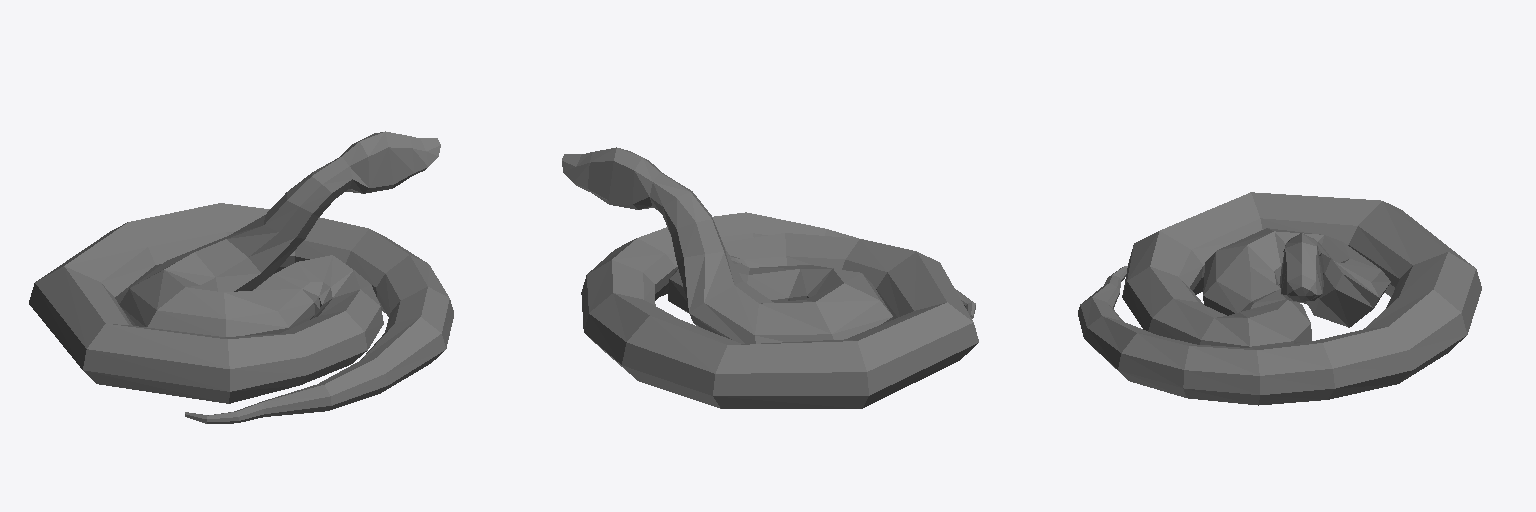
Rendered from sancatimor.obj.
The picture shows the model from 3 angles: view 1: azimuth 30°, elevation 25°; view 2: azimuth 150°, elevation 25°; view 3: azimuth 270°, elevation 25°; orthographic projection.
Parts seen in each view (by area): view 1: BushmasterSnake_mesh; view 2: BushmasterSnake_mesh; view 3: BushmasterSnake_mesh.
Part boxes in pixels (x1,y1,x2,y2): BushmasterSnake_mesh: (29, 131, 453, 423); BushmasterSnake_mesh: (562, 147, 978, 408); BushmasterSnake_mesh: (1078, 192, 1481, 405).
Size of the model in its own units: 12.9 by 5.27 by 11.75.